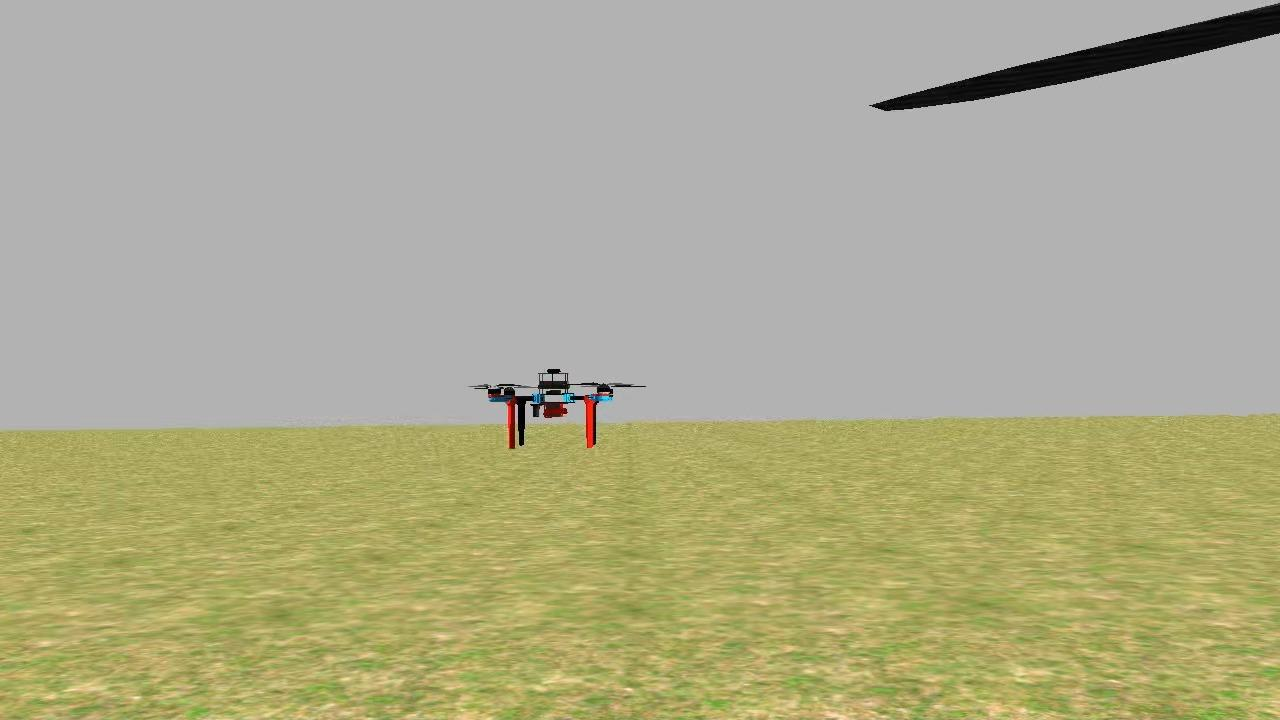UAV: (482, 361, 624, 454)
